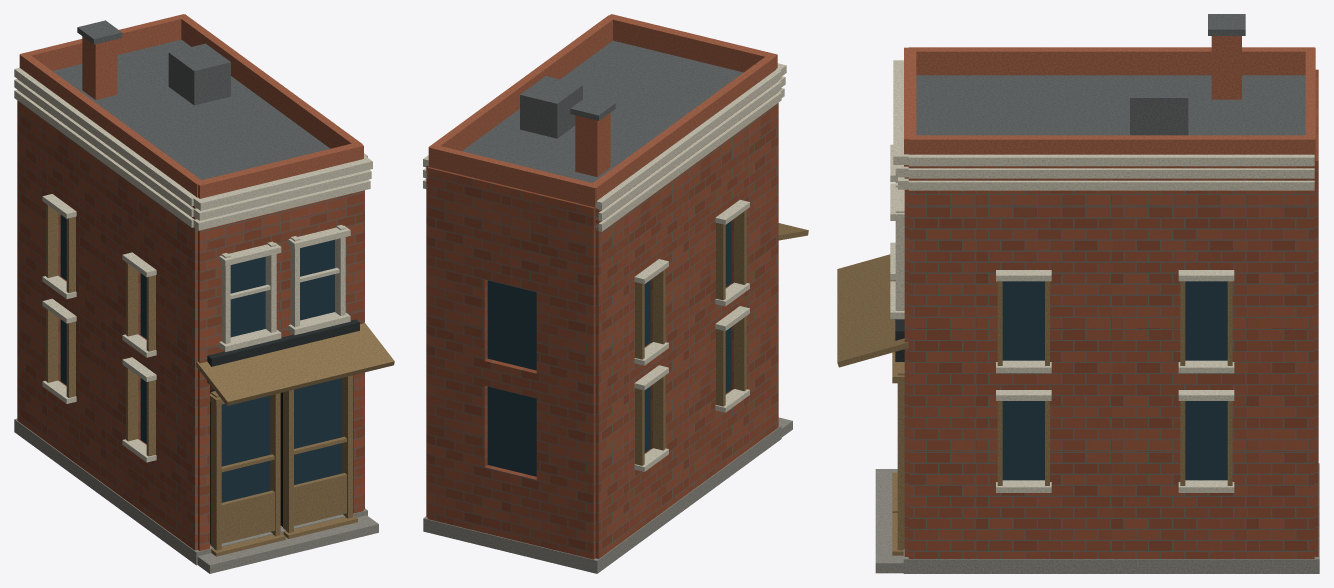
File: CLSTGA12_lod2.glb
3 views of the same model, side by side, from view 1: azimuth 30°, elevation 25°; view 2: azimuth 150°, elevation 25°; view 3: azimuth 270°, elevation 25° (orthographic). The views are drawn at different scales.
Visible parts, largest first — view 1: CLSTGA12_LOD2; view 2: CLSTGA12_LOD2; view 3: CLSTGA12_LOD2.
Boxes of the visible parts, box(x1,y1,x2,y2) form: CLSTGA12_LOD2: box(14, 14, 394, 573); CLSTGA12_LOD2: box(423, 14, 808, 573); CLSTGA12_LOD2: box(837, 14, 1319, 573).
Size of the model in its own units: 3.71 by 7.85 by 7.13.
9 materials, 7 textured.
